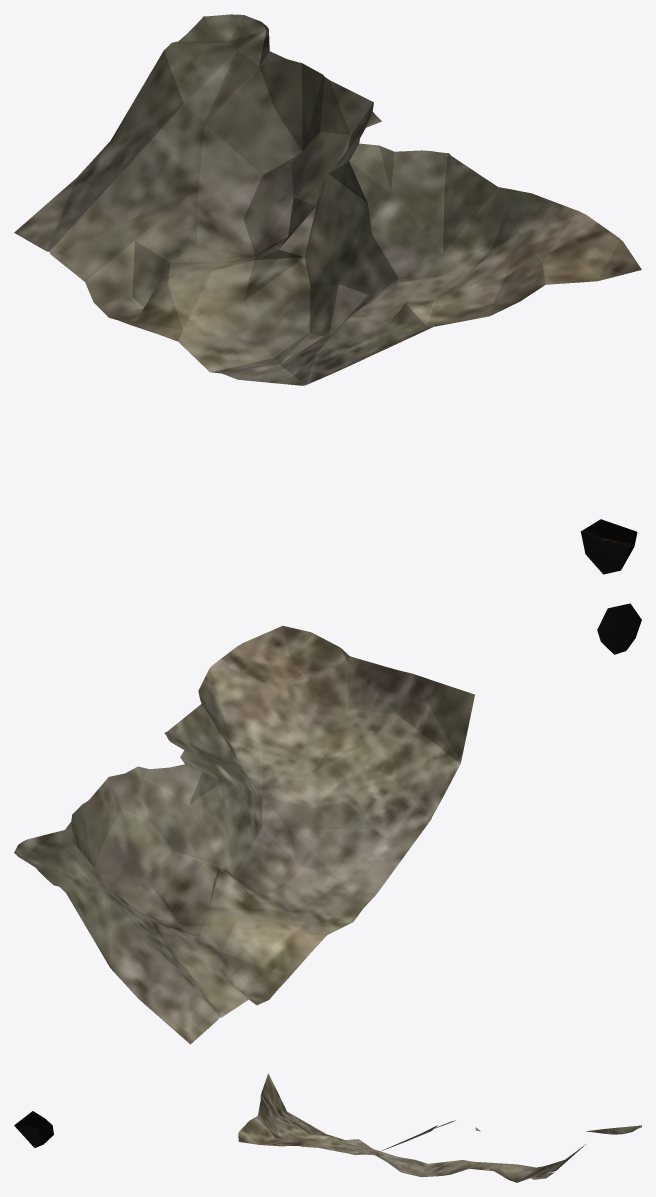
The picture shows the model from 3 angles, top to bottom: view 1: azimuth 30°, elevation 25°; view 2: azimuth 150°, elevation 25°; view 3: azimuth 270°, elevation 25°; orthographic projection. The views are drawn at different scales.
Bounding box in the file's own units: 2.57 × 1.66 × 9.33.
Materials: 1 (1 with a texture image).
